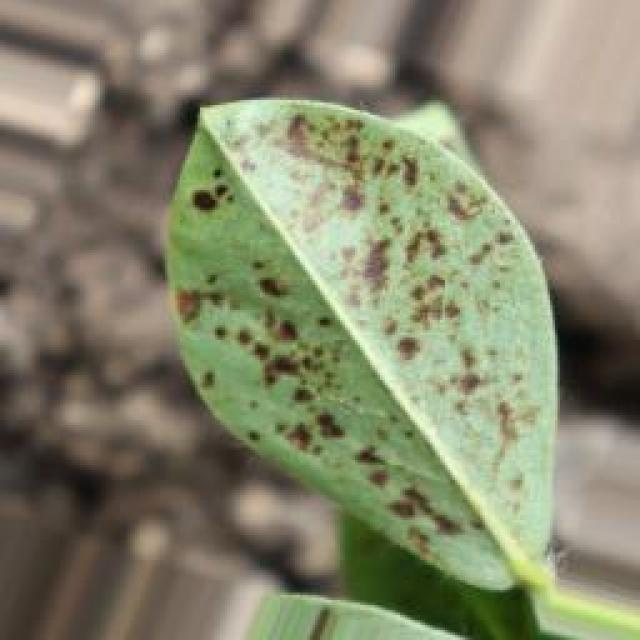Whitefly: (138, 85, 552, 598)
